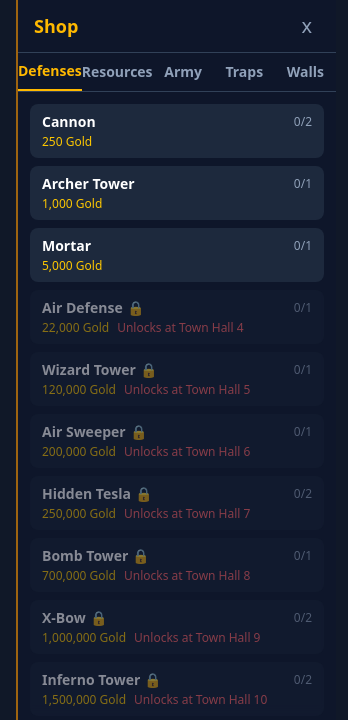
Scenario: ShopPanel › shows locked traps as disabled with an unlock hint
The image size is (348, 720).
Click the button "Traps" at (244, 72), box [214,53,275,91]
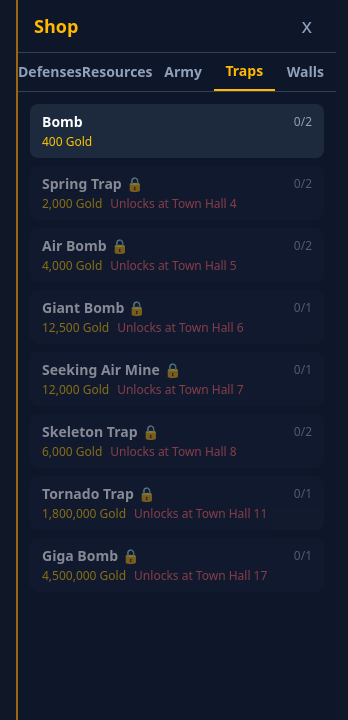
Expected: the text "Unlocks at Town Hall 4" is shown, [110,195,237,212]
Expected: the text "Bomb" is shown, [42,112,83,132]
Expected: the button "Spring Trap" is disabled, [30,166,324,220]
